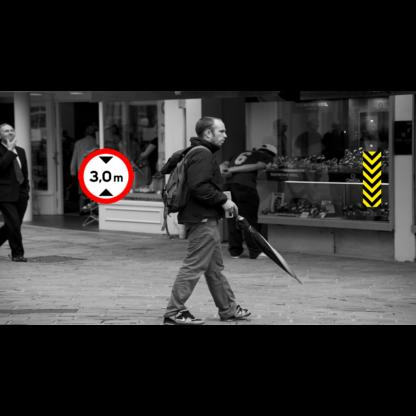O-MP: (363, 152, 381, 207)
R-15: (78, 148, 134, 204)
